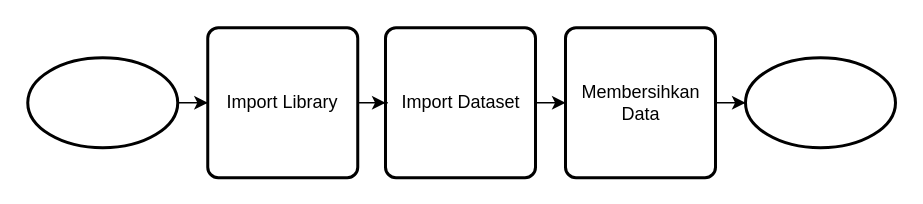
Image size: 923x204. Some labels were removed from this diagram. The shapes that lost their labels are listed below. From the top down, each one's box as (x1, y1, x2, y2) in pixels, then its label:
(26, 56, 178, 148): Mulai
(743, 56, 896, 148): Selesai
